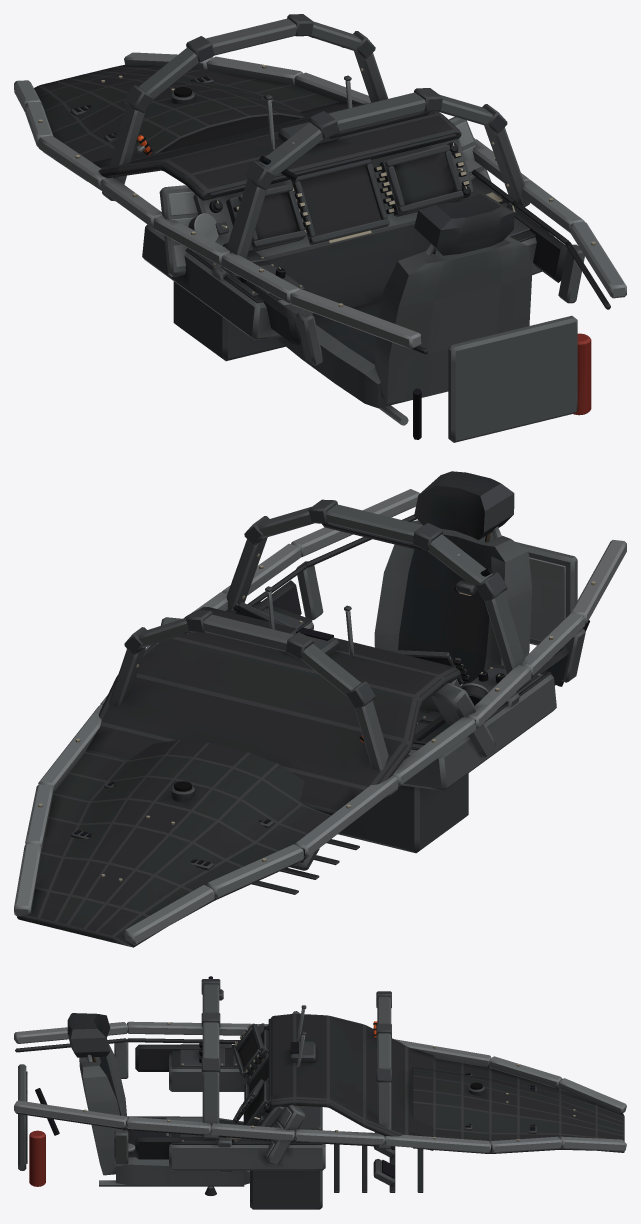
Rendered from cockpit.glb.
The picture shows the model from 3 angles, top to bottom: view 1: azimuth 30°, elevation 25°; view 2: azimuth 150°, elevation 25°; view 3: azimuth 270°, elevation 25°; orthographic projection. The views are drawn at different scales.
Visible parts, largest first — view 1: cockpit; view 2: cockpit; view 3: cockpit.
Boxes of the visible parts, x1,y1,x2,y2 form: cockpit: (14, 14, 626, 442); cockpit: (14, 471, 626, 947); cockpit: (14, 976, 626, 1209).
Bounding box in the file's own units: 0.9252 × 0.7755 × 2.19.
